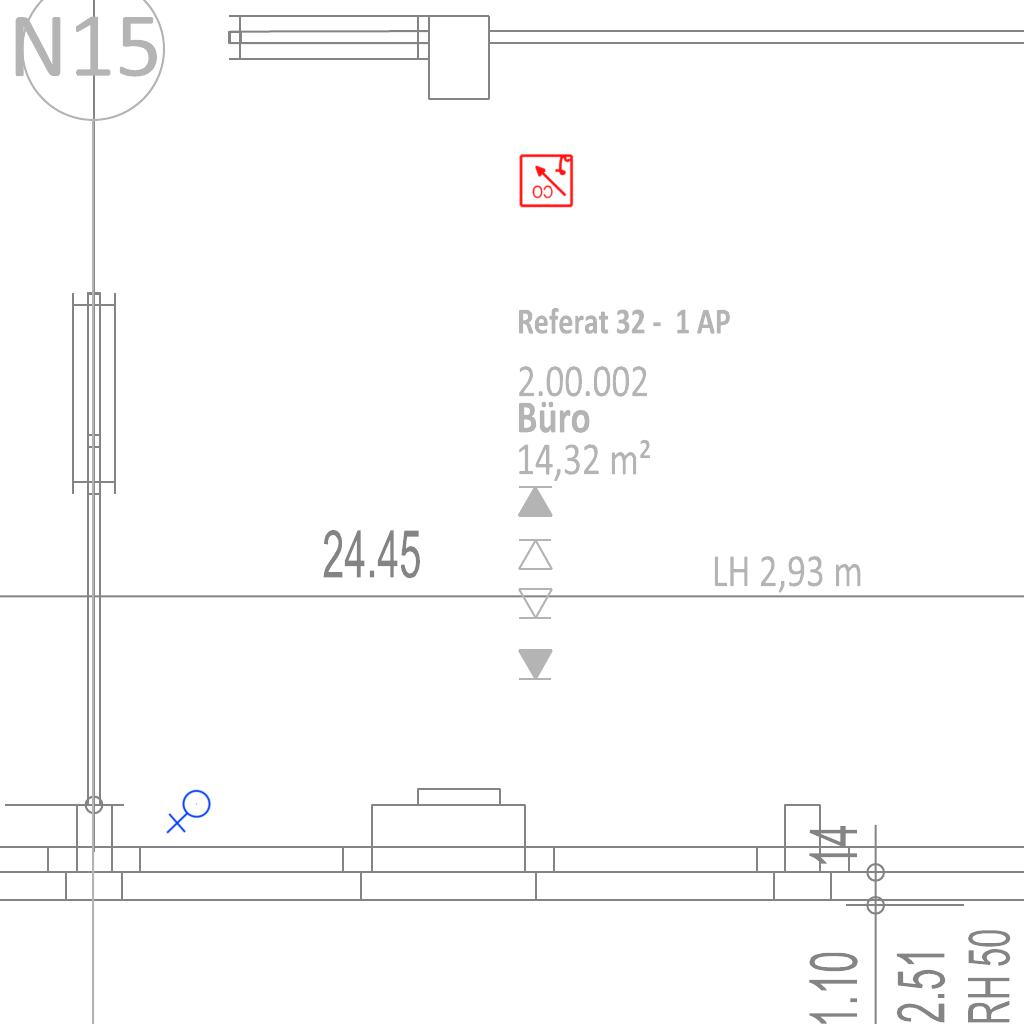Elektroanschluss_allgemein_230V_Geraeteanschlussdose_230V: (166, 789, 215, 836)
ROA_Rauchmelder_optisch_mit_Signalgeber_(Sockelsirene): (518, 152, 574, 208)
